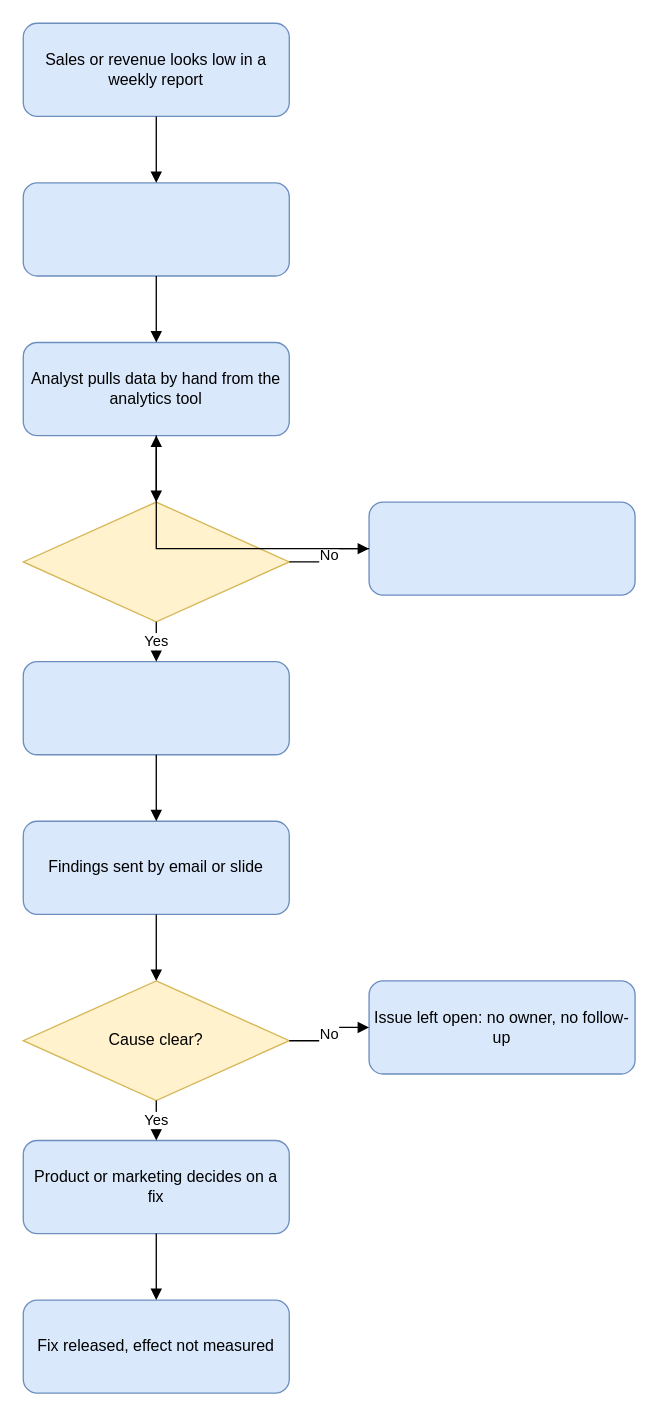
The diagram is 658 pixels wide and 1416 high, and some of its shapes have lost their labels. The shapes that lost their labels are listed below. From the top down, each one's box as (x1, y1, x2, y2) in pixels, then its label:
(22, 182, 289, 276): Manager asks the data analyst to look into it
(22, 501, 289, 622): Do the numbers match other reports?
(368, 501, 635, 595): Debate which number is right (days)
(22, 660, 289, 755): Analyst checks a few segments chosen by guess
